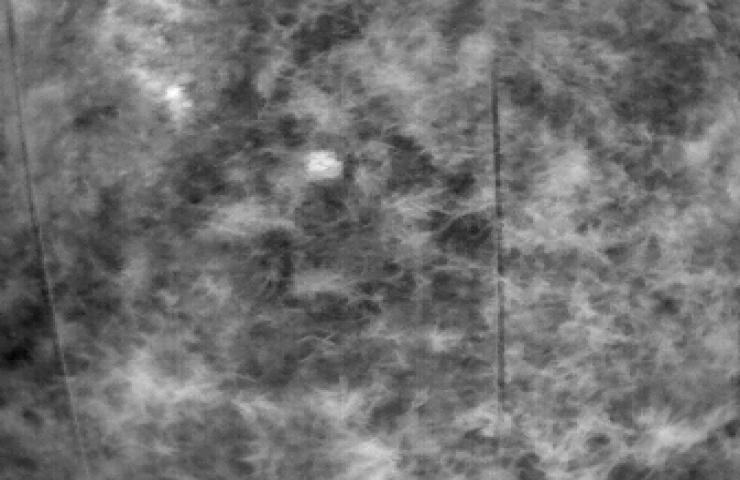landmines: (302, 145, 352, 181)
